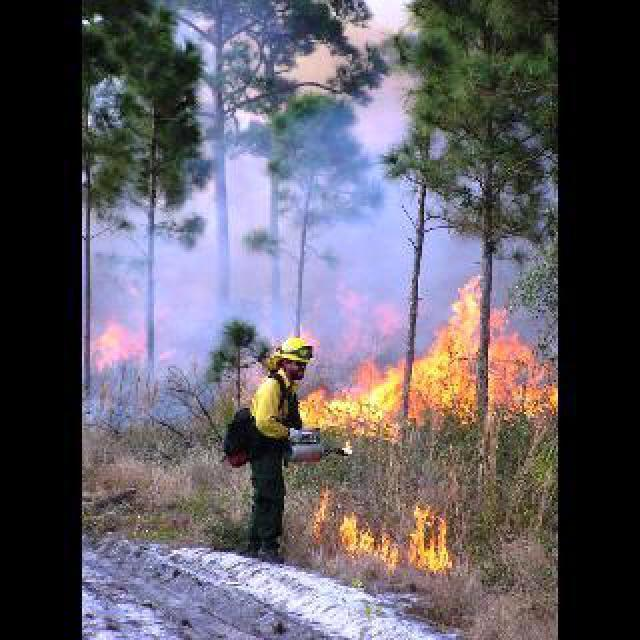Fire: (401, 258, 556, 429), (316, 497, 466, 574), (296, 365, 420, 438)
Smoke: (90, 105, 479, 364)
